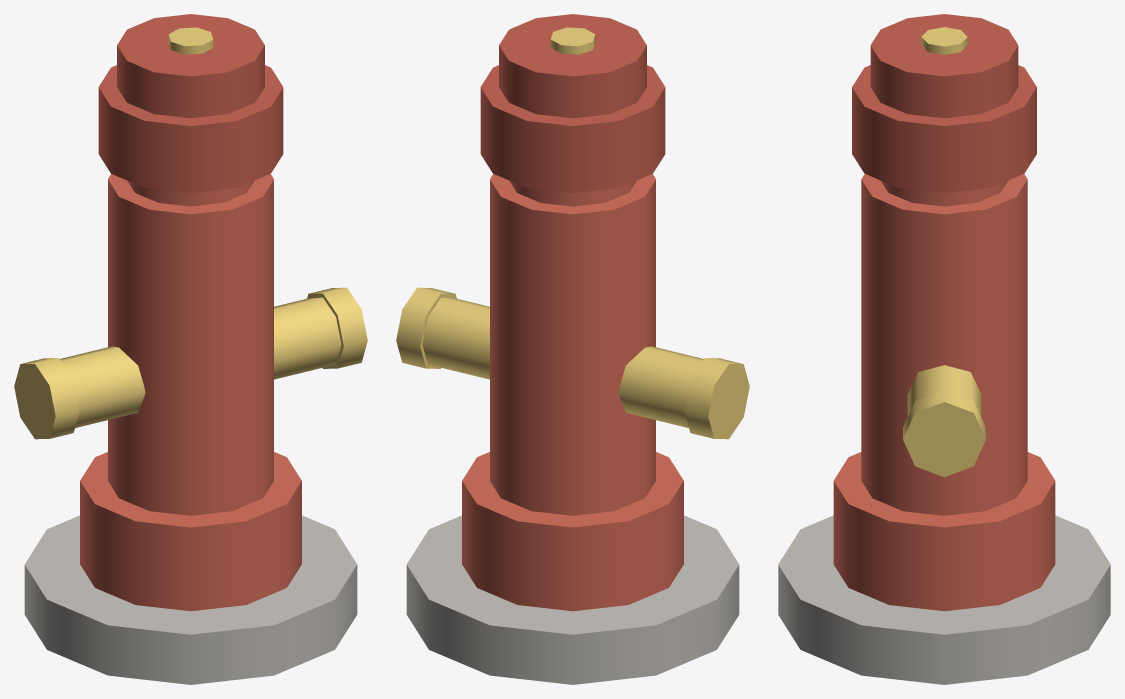
Rendered from fire_hydrant.glb.
3 renders of one model, left to right at view 1: azimuth 30°, elevation 25°; view 2: azimuth 150°, elevation 25°; view 3: azimuth 270°, elevation 25°, orthographic.
Parts seen in each view (by area): view 1: body_main, base, body_bottom, cap, cap_dome, outlet_l, outlet_r, cap_l, cap_r, body_neck, top_outlet; view 2: body_main, base, body_bottom, cap, cap_dome, outlet_l, outlet_r, cap_l, cap_r, body_neck, top_outlet; view 3: body_main, base, body_bottom, cap, cap_dome, cap_r, outlet_r, body_neck, top_outlet.
Part boxes in pixels (x1=…): body_main: x1=108, y1=174, x2=273, y2=515; base: x1=24, y1=515, x2=357, y2=684; body_bottom: x1=80, y1=452, x2=301, y2=611; cap: x1=98, y1=65, x2=283, y2=192; cap_dome: x1=117, y1=14, x2=264, y2=118; outlet_l: x1=60, y1=346, x2=145, y2=427; outlet_r: x1=274, y1=297, x2=341, y2=379; cap_l: x1=14, y1=358, x2=79, y2=439; cap_r: x1=307, y1=287, x2=367, y2=368; body_neck: x1=127, y1=180, x2=254, y2=206; top_outlet: x1=168, y1=27, x2=213, y2=54; body_main: x1=490, y1=174, x2=655, y2=515; base: x1=406, y1=515, x2=739, y2=684; body_bottom: x1=462, y1=452, x2=683, y2=611; cap: x1=480, y1=65, x2=665, y2=192; cap_dome: x1=499, y1=14, x2=646, y2=118; outlet_l: x1=618, y1=346, x2=703, y2=427; outlet_r: x1=422, y1=297, x2=489, y2=379; cap_l: x1=684, y1=358, x2=749, y2=439; cap_r: x1=396, y1=287, x2=456, y2=368; body_neck: x1=509, y1=180, x2=636, y2=206; top_outlet: x1=550, y1=27, x2=595, y2=54; body_main: x1=861, y1=174, x2=1027, y2=515; base: x1=778, y1=515, x2=1110, y2=684; body_bottom: x1=833, y1=452, x2=1055, y2=611; cap: x1=852, y1=65, x2=1036, y2=192; cap_dome: x1=870, y1=14, x2=1018, y2=118; cap_r: x1=903, y1=390, x2=985, y2=477; outlet_r: x1=907, y1=365, x2=981, y2=416; body_neck: x1=881, y1=180, x2=1007, y2=206; top_outlet: x1=921, y1=27, x2=967, y2=54.
Size of the model in its own units: 0.39 by 0.69 by 0.36.
